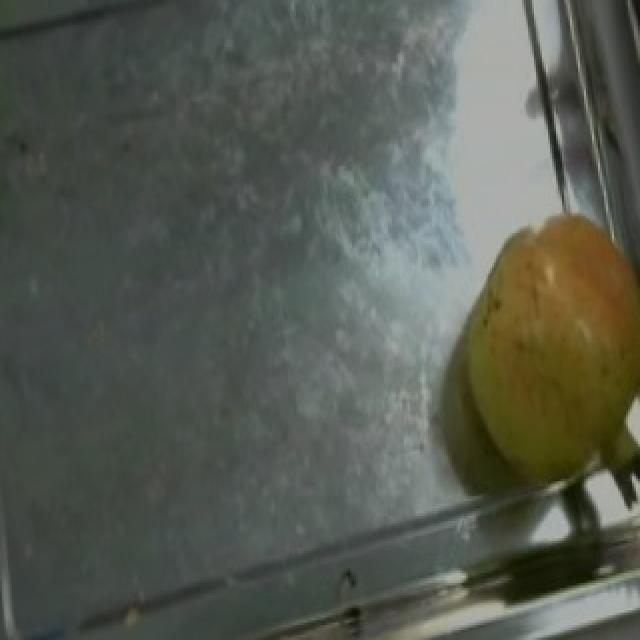fruit: (448, 188, 640, 392)
